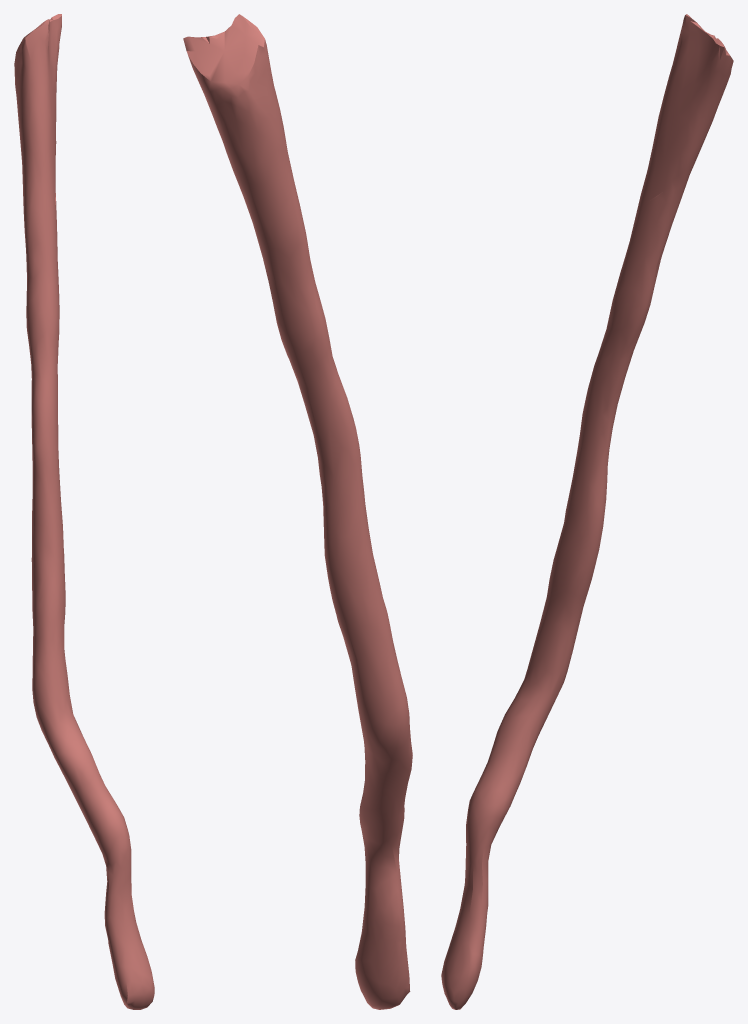
File: fma40720_mm1973.glb
3 views of the same model, side by side, from view 1: azimuth 30°, elevation 25°; view 2: azimuth 150°, elevation 25°; view 3: azimuth 270°, elevation 25° (orthographic). The views are drawn at different scales.
Parts seen in each view (by area): view 1: FMA40720_MM1973; view 2: FMA40720_MM1973; view 3: FMA40720_MM1973.
Part boxes in pixels (x1=…): FMA40720_MM1973: x1=14, y1=14, x2=154, y2=1009; FMA40720_MM1973: x1=183, y1=14, x2=412, y2=1009; FMA40720_MM1973: x1=441, y1=14, x2=733, y2=1009.
Bounding box in the file's own units: 0.0139 × 0.1129 × 0.0299.
